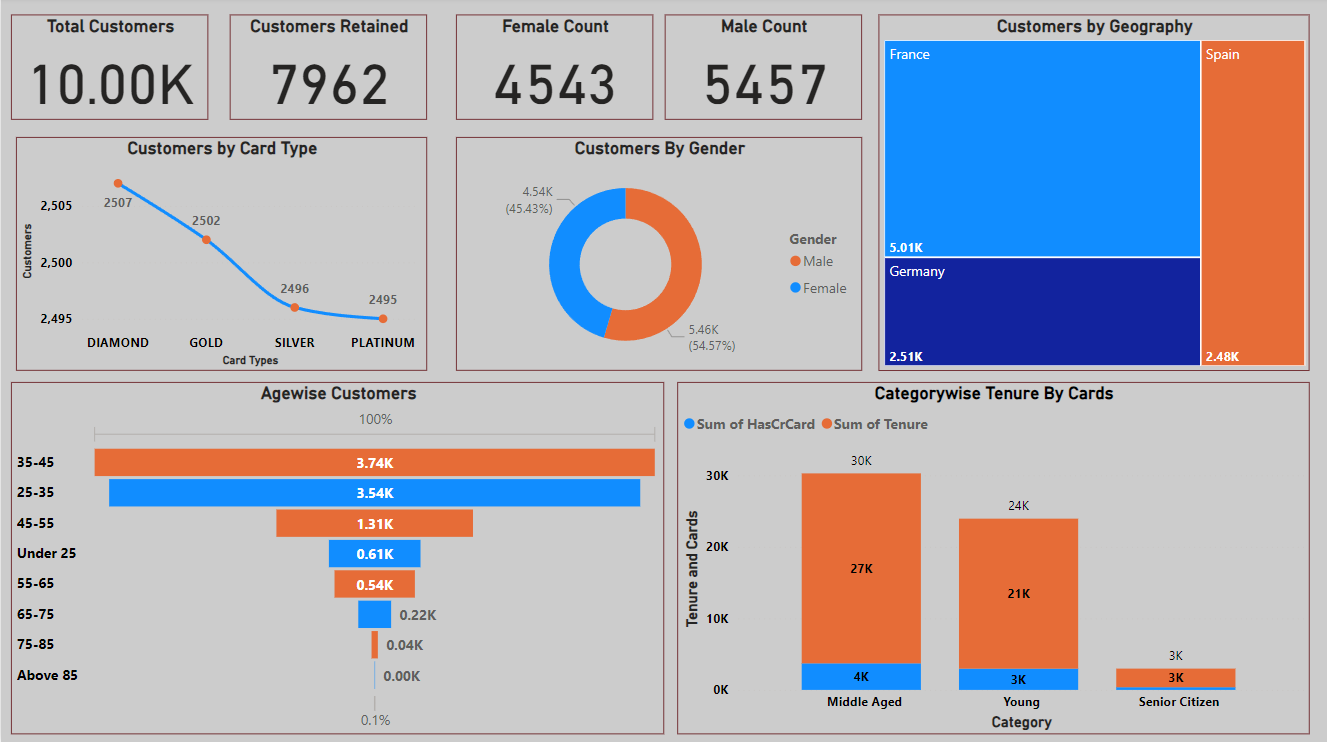

What the dashboard file says about the page in this screenshot:
{"tool":"powerbi","page":{"name":"Overview","canvas":[1280,720],"ordinal":1},"visuals":[{"type":"card","title":"Total Customers","fields":{"Values":["CountNonNull(dataset.CustomerId)"]},"box":[9.6,16.9,190.6,101.3],"z":0},{"type":"card","title":"Customers Retained","fields":{"Values":["dataset.Customer Retained"]},"box":[220.7,16.9,190.6,101.3],"z":1000},{"type":"card","title":"Female Count","fields":{"Values":["dataset.FemaleCount"]},"box":[439,16.9,190.6,101.3],"z":2000},{"type":"card","title":"Male Count","fields":{"Values":["dataset.MaleCount"]},"box":[640.4,16.9,190.6,101.3],"z":3000},{"type":"donutChart","title":"Customers By Gender","fields":{"Y":["CountNonNull(dataset.CustomerId)"],"Category":["dataset.Gender"]},"box":[439,135.1,392,225.5],"z":4000},{"type":"funnel","title":"Agewise Customers","fields":{"Y":["CountNonNull(dataset.CustomerId)"],"Category":["dataset.Age Band"]},"box":[9.6,371.5,630.8,340.1],"z":5000},{"type":"treemap","title":"Customers by Geography","fields":{"Values":["CountNonNull(dataset.CustomerId)"],"Group":["dataset.Geography"]},"box":[846.6,16.9,416.1,343.7],"z":6000},{"type":"lineChart","title":" Customers by Card Type","fields":{"Category":["dataset.Card Type"],"Y":["CountNonNull(dataset.CustomerId)"]},"box":[14.5,135.1,396.8,225.5],"z":7000},{"type":"columnChart","title":"Categorywise Tenure By Cards","fields":{"Category":["dataset.Category"],"Y":["Sum(dataset.HasCrCard)","Sum(dataset.Tenure)"]},"box":[652.5,371.5,610.3,340.1],"z":8000}]}

Visuals, with their boxes in screenshot pixels (x1, y1, x2, y2), scaled from the page's 1280x720 canvas onto the 1327x742 screenshot:
"Total Customers" card: l=10, t=17, r=208, b=122
"Customers Retained" card: l=229, t=17, r=426, b=122
"Female Count" card: l=455, t=17, r=653, b=122
"Male Count" card: l=664, t=17, r=862, b=122
"Customers By Gender" donutChart: l=455, t=139, r=862, b=372
"Agewise Customers" funnel: l=10, t=383, r=664, b=733
"Customers by Geography" treemap: l=878, t=17, r=1309, b=372
" Customers by Card Type" lineChart: l=15, t=139, r=426, b=372
"Categorywise Tenure By Cards" columnChart: l=676, t=383, r=1309, b=733
